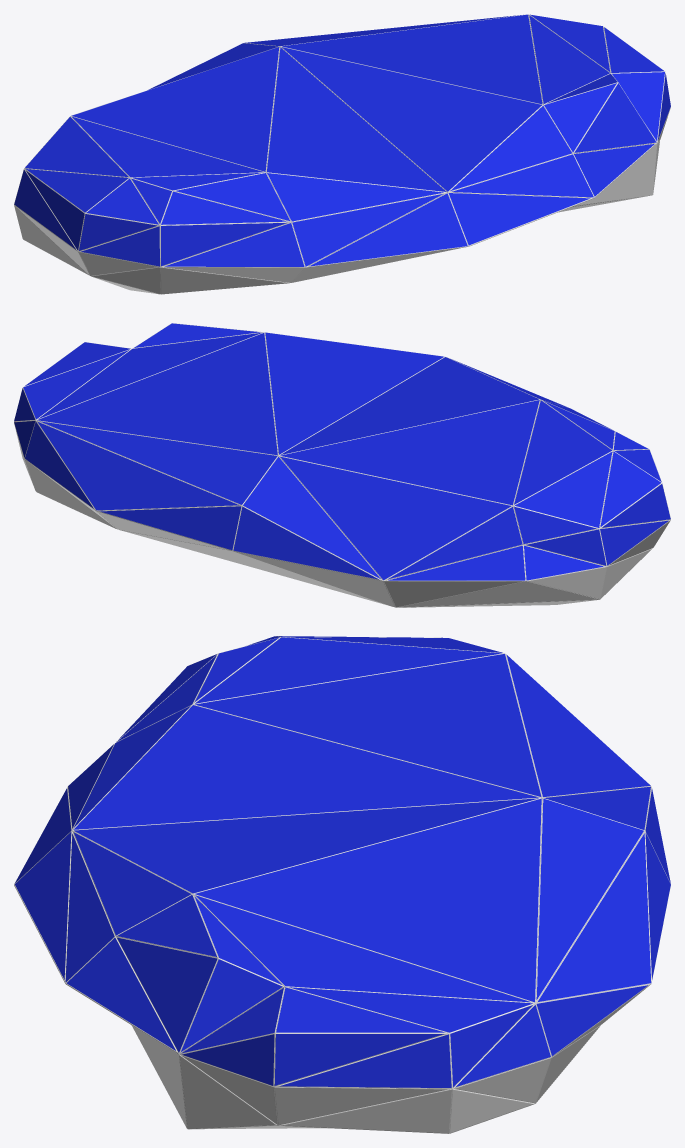
Rendered from BYGEN.fbx.
3 views of the same model, one above another, from view 1: azimuth 30°, elevation 25°; view 2: azimuth 150°, elevation 25°; view 3: azimuth 270°, elevation 25° (orthographic). The views are drawn at different scales.
Parts seen in each view (by area): view 1: Куб; view 2: Куб; view 3: Куб.
Boxes of the visible parts, bbox=[...] form: Куб: bbox=[14, 14, 670, 294]; Куб: bbox=[14, 323, 670, 607]; Куб: bbox=[14, 636, 670, 1133].
Size of the model in its own units: 25495 by 17361 by 4740.
